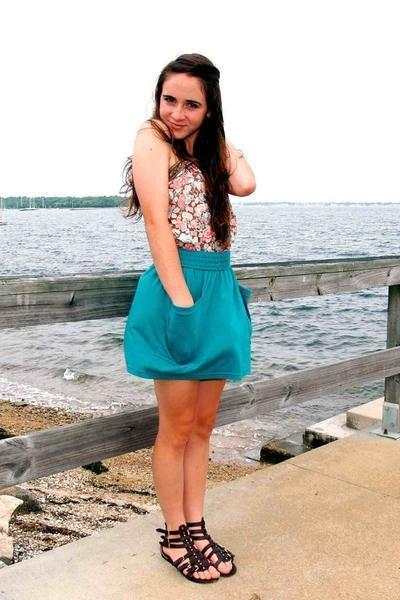shirt: (168, 164, 233, 267)
shoe: (156, 517, 236, 583)
skirt: (122, 250, 274, 381)
